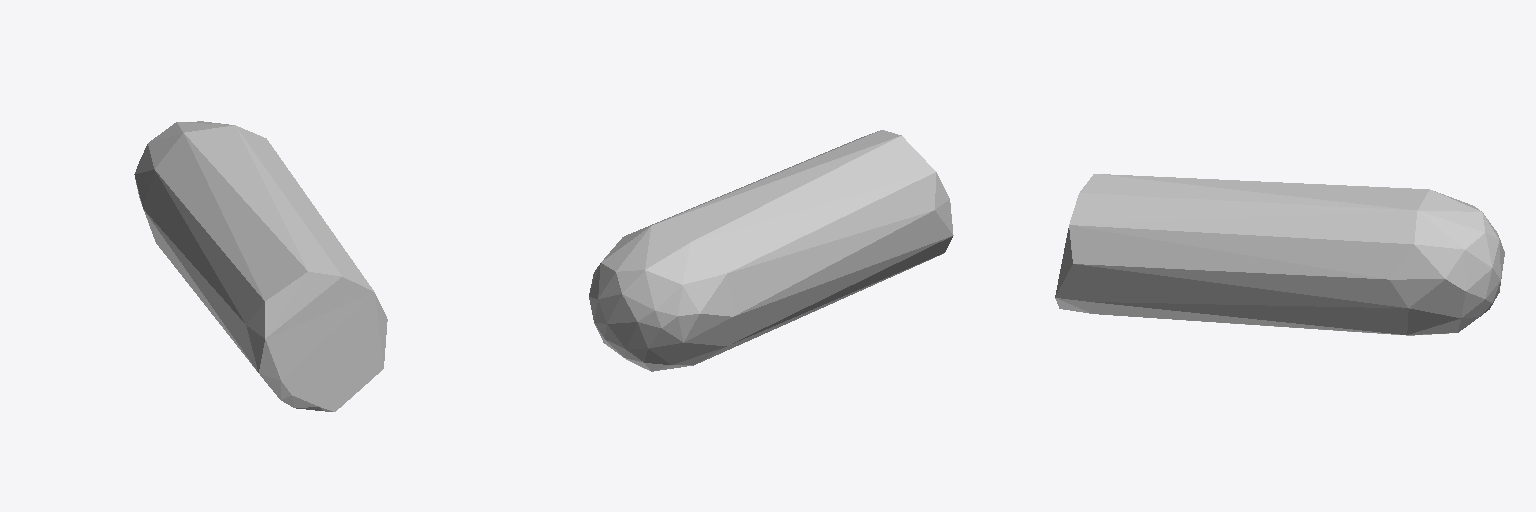
File: right thyrocervical trunk.obj
The picture shows the model from 3 angles: view 1: azimuth 30°, elevation 25°; view 2: azimuth 150°, elevation 25°; view 3: azimuth 270°, elevation 25°; orthographic projection.
Parts seen in each view (by area): view 1: grp1; view 2: grp1; view 3: grp1.
Part boxes in pixels (left/top/right/bottom): grp1: left=134, top=121, right=387, bottom=411; grp1: left=589, top=130, right=953, bottom=371; grp1: left=1055, top=174, right=1504, bottom=335.
Bounding box in the file's own units: 2.7 × 1.94 × 5.75.